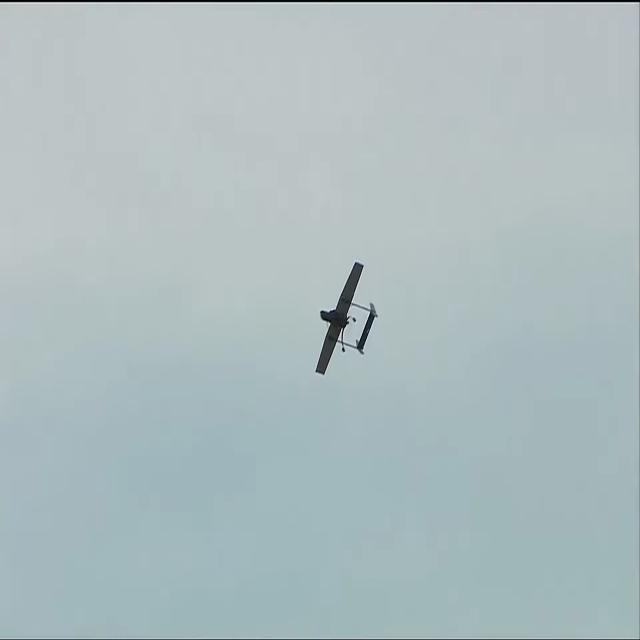iha: (316, 290, 376, 346)
